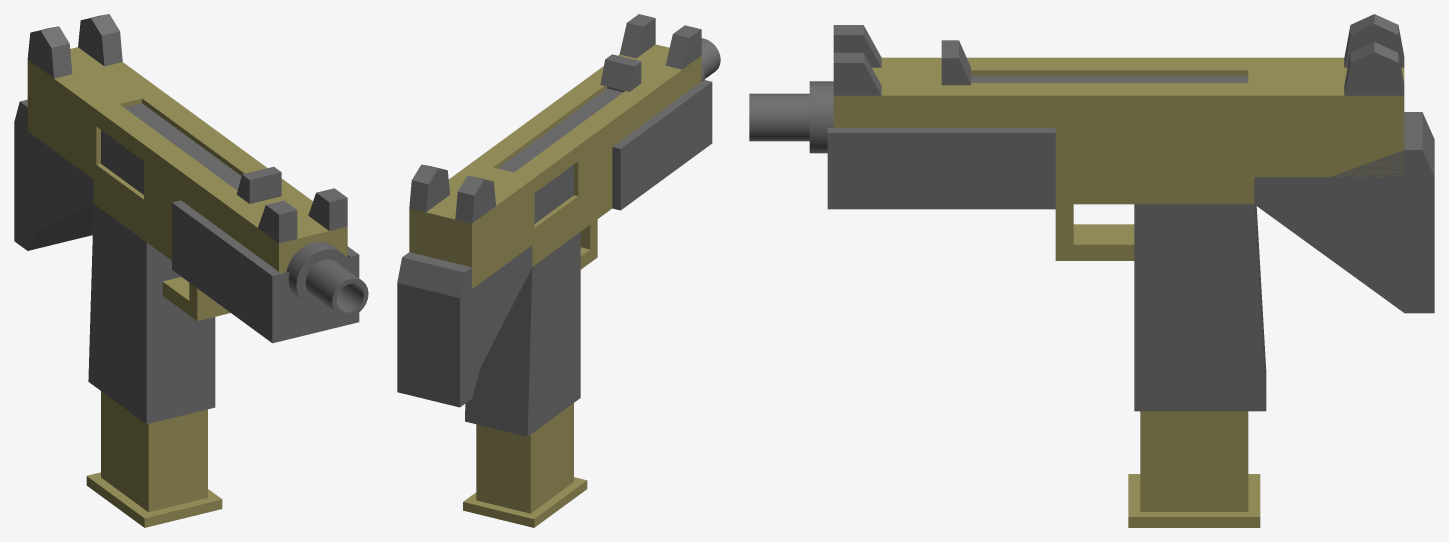
Rendered from uziGoldLong.glb.
The picture shows the model from 3 angles, left to right: view 1: azimuth 30°, elevation 25°; view 2: azimuth 150°, elevation 25°; view 3: azimuth 270°, elevation 25°; orthographic projection. The views are drawn at different scales.
Parts seen in each view (by area): view 1: uziGoldLong; view 2: uziGoldLong; view 3: uziGoldLong.
Boxes of the visible parts, bbox=[...] form: uziGoldLong: bbox=[14, 14, 368, 527]; uziGoldLong: bbox=[397, 14, 720, 527]; uziGoldLong: bbox=[749, 14, 1434, 527].
Bounding box in the file's own units: 0.0114 × 0.0522 × 0.0685.
